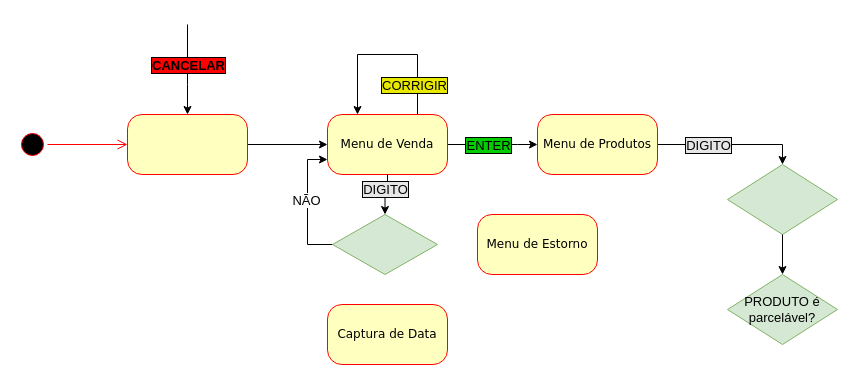
The diagram is 855 pixels wide and 382 high, and some of its shapes have lost their labels. Each missing label, with the centre of its shape:
DIGITO = 1? DIGITO = 2?: the point at 385,244
DIGITO = ID de produto: the point at 782,199
Tela Principal: the point at 187,144
